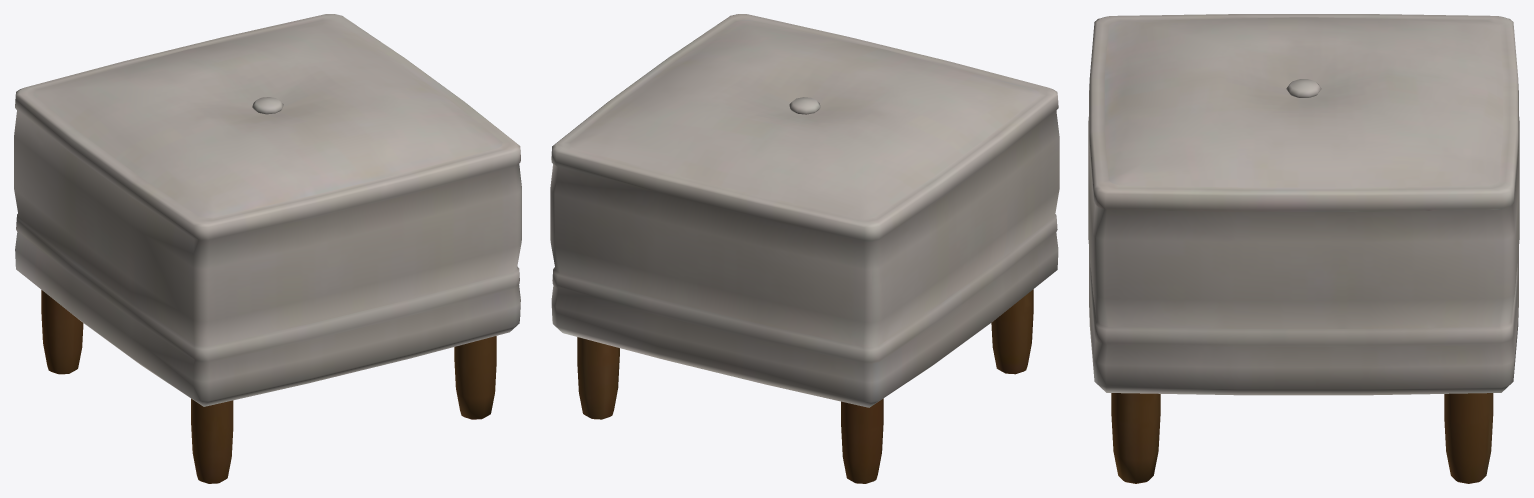
The picture shows the model from 3 angles, left to right: view 1: azimuth 30°, elevation 25°; view 2: azimuth 150°, elevation 25°; view 3: azimuth 270°, elevation 25°; orthographic projection. The views are drawn at different scales.
Size of the model in its own units: 5.87 by 4.93 by 5.87.
1 material, 1 textured.
